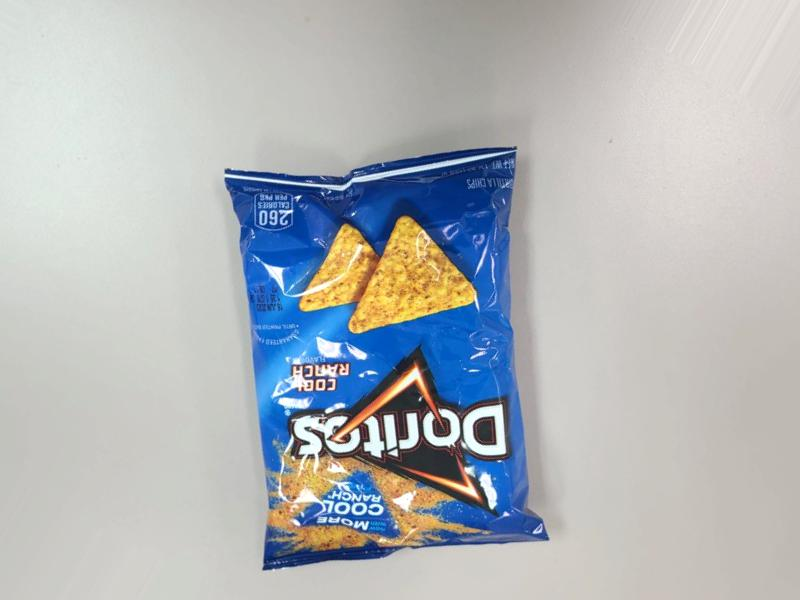doritos: (238, 126, 539, 583)
